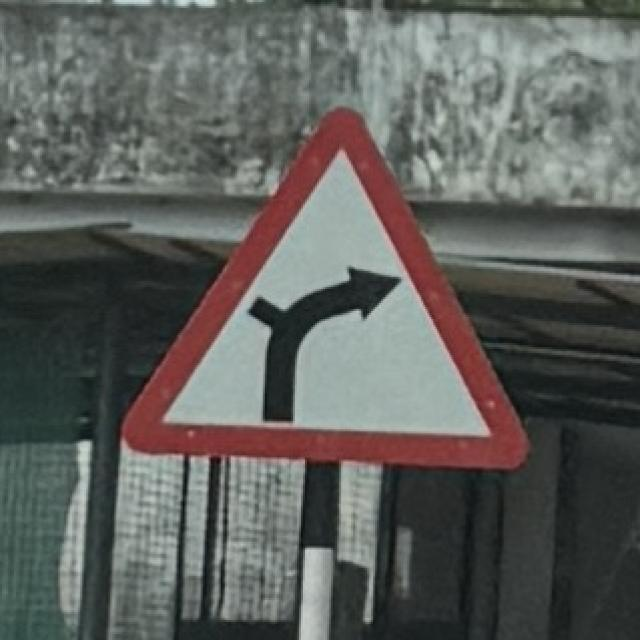RIGHT_TURN_AHEAD: (114, 98, 537, 484)
